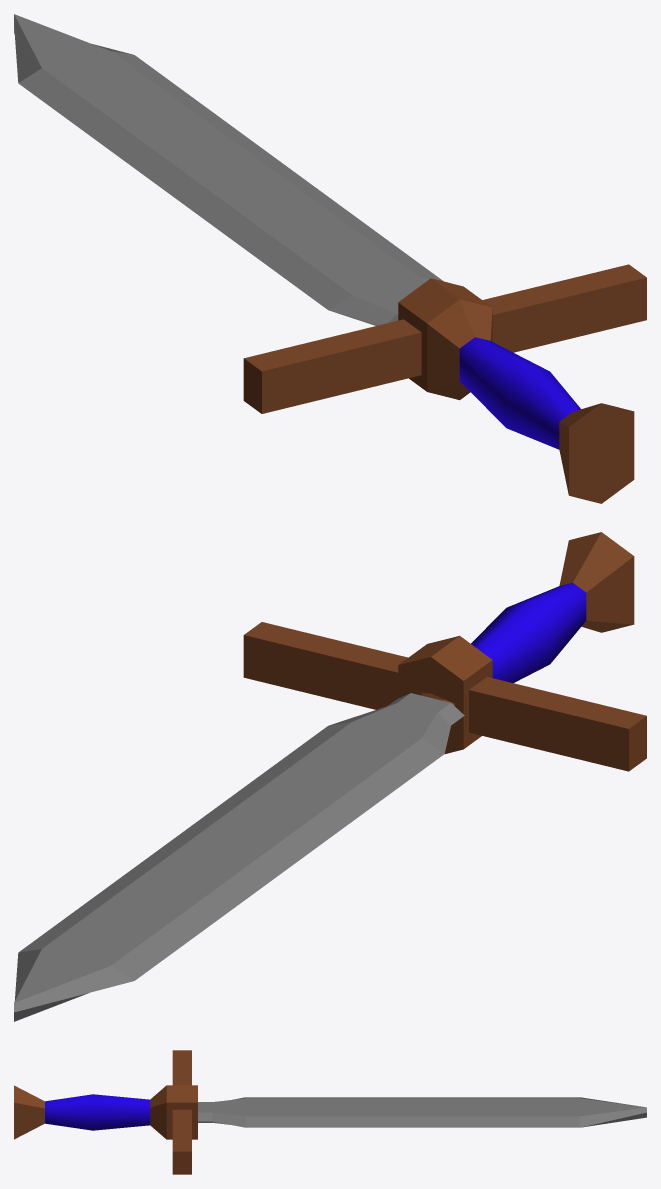
Rendered from item_sword.fbx.
3 renders of one model, top to bottom at view 1: azimuth 30°, elevation 25°; view 2: azimuth 150°, elevation 25°; view 3: azimuth 270°, elevation 25°, orthographic. The views are drawn at different scales.
Parts seen in each view (by area): view 1: item_sword; view 2: item_sword; view 3: item_sword.
Part boxes in pixels (left/top/right/bottom): item_sword: left=14, top=14, right=646, bottom=503; item_sword: left=14, top=532, right=646, bottom=1021; item_sword: left=14, top=1050, right=646, bottom=1174.
Bounding box in the file's own units: 35.95 × 8.99 × 95.
